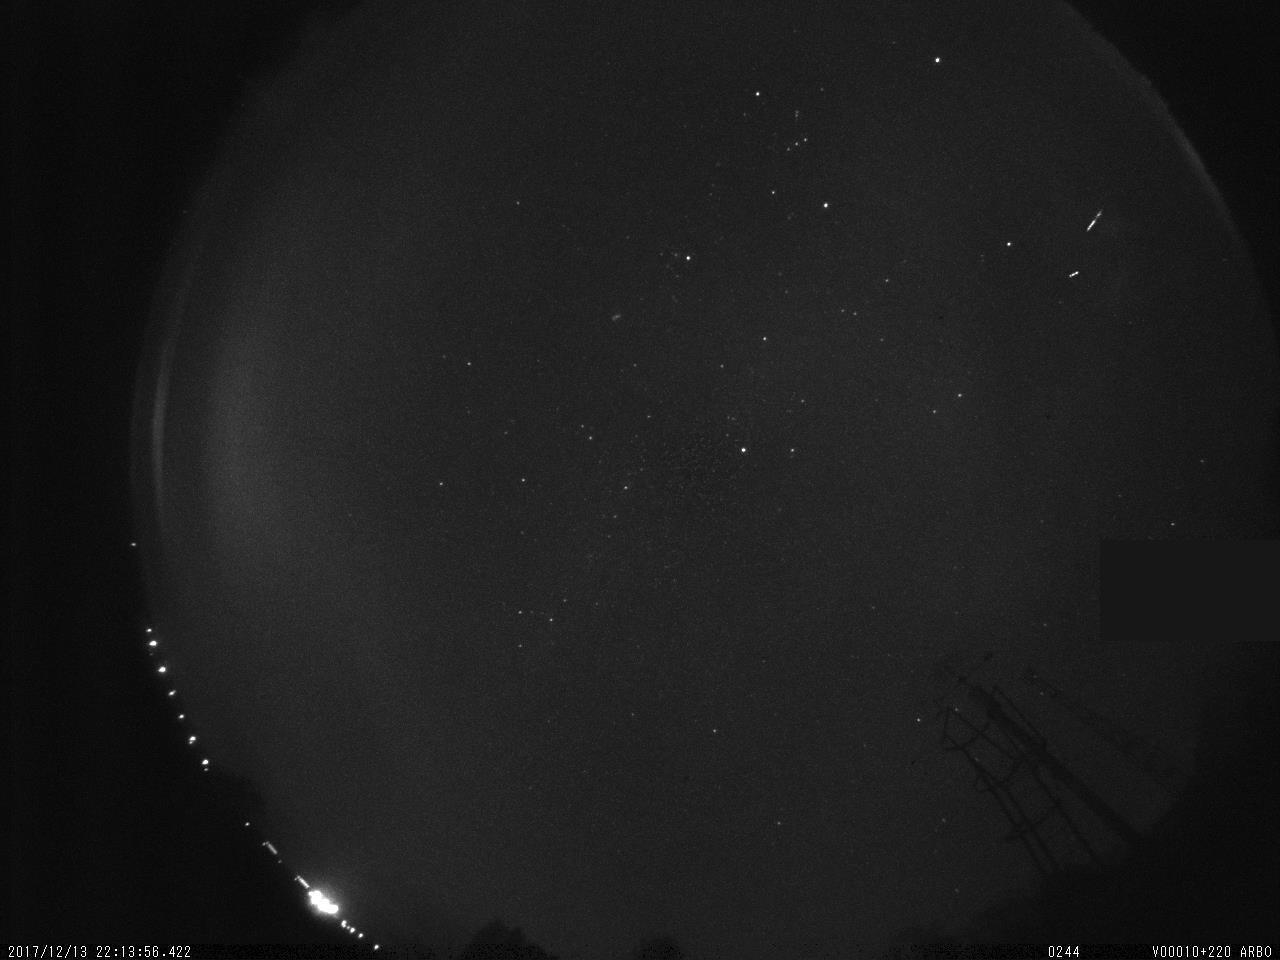Meteor: (1080, 201, 1108, 237)
